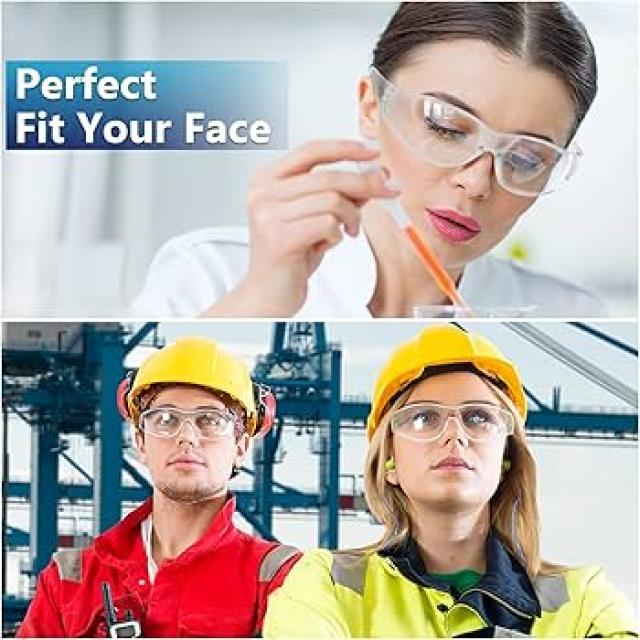Hard Hat: (360, 324, 537, 442), (122, 329, 266, 426)
Reflective Vest: (16, 491, 308, 640), (272, 530, 640, 640)
Safety Glasses: (358, 64, 590, 205), (366, 398, 526, 450), (134, 403, 254, 448)
